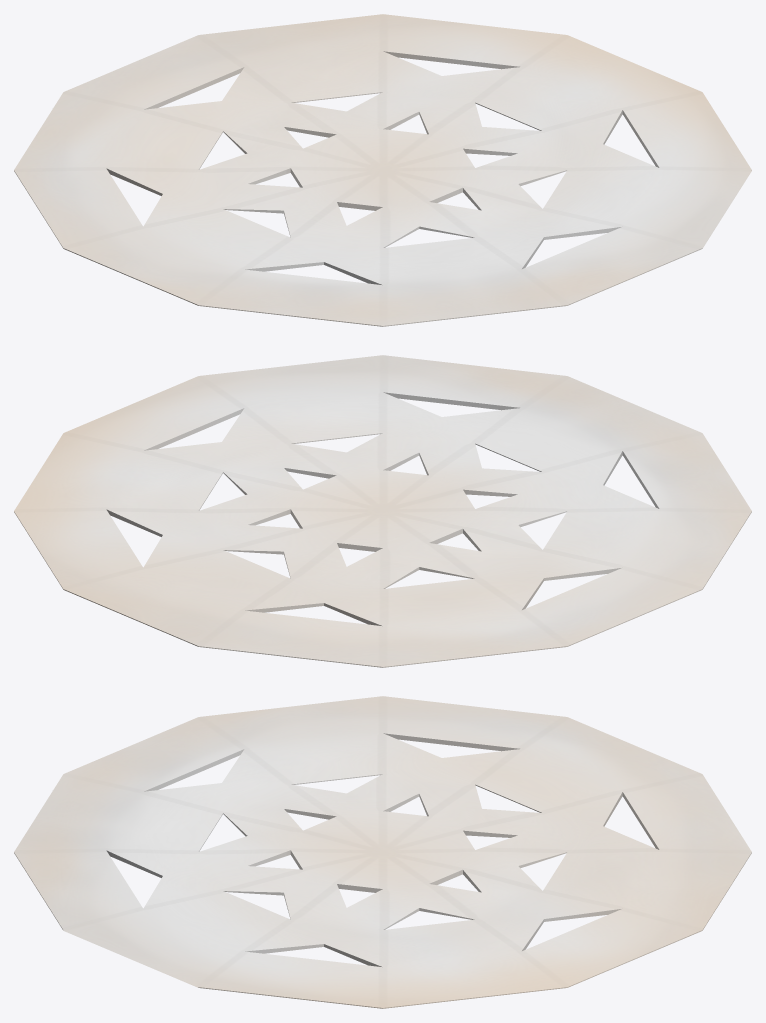
Rendered from laceWhole.fbx.
The picture shows the model from 3 angles, top to bottom: view 1: azimuth 30°, elevation 25°; view 2: azimuth 150°, elevation 25°; view 3: azimuth 270°, elevation 25°; orthographic projection.
Parts seen in each view (by area): view 1: Lace; view 2: Lace; view 3: Lace.
Part boxes in pixels (x1,y1,x2,y2): Lace: (14, 14, 751, 326); Lace: (14, 355, 751, 667); Lace: (14, 696, 751, 1008).
Bounding box in the file's own units: 4 × 0.028 × 4.
